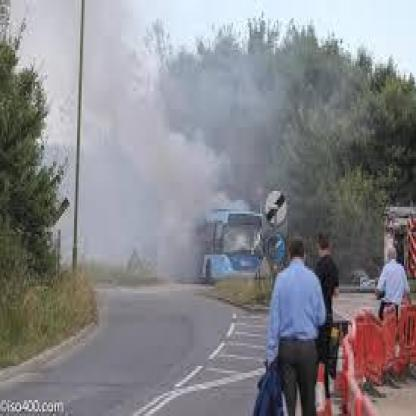smoke: (83, 59, 253, 243)
